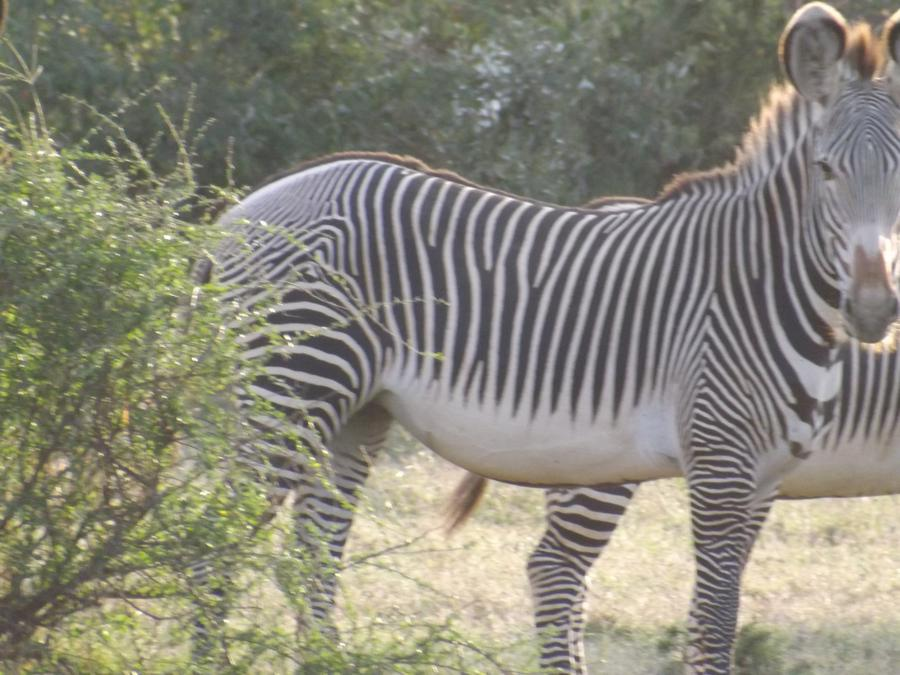zebra_grevys: (213, 114, 776, 476)
